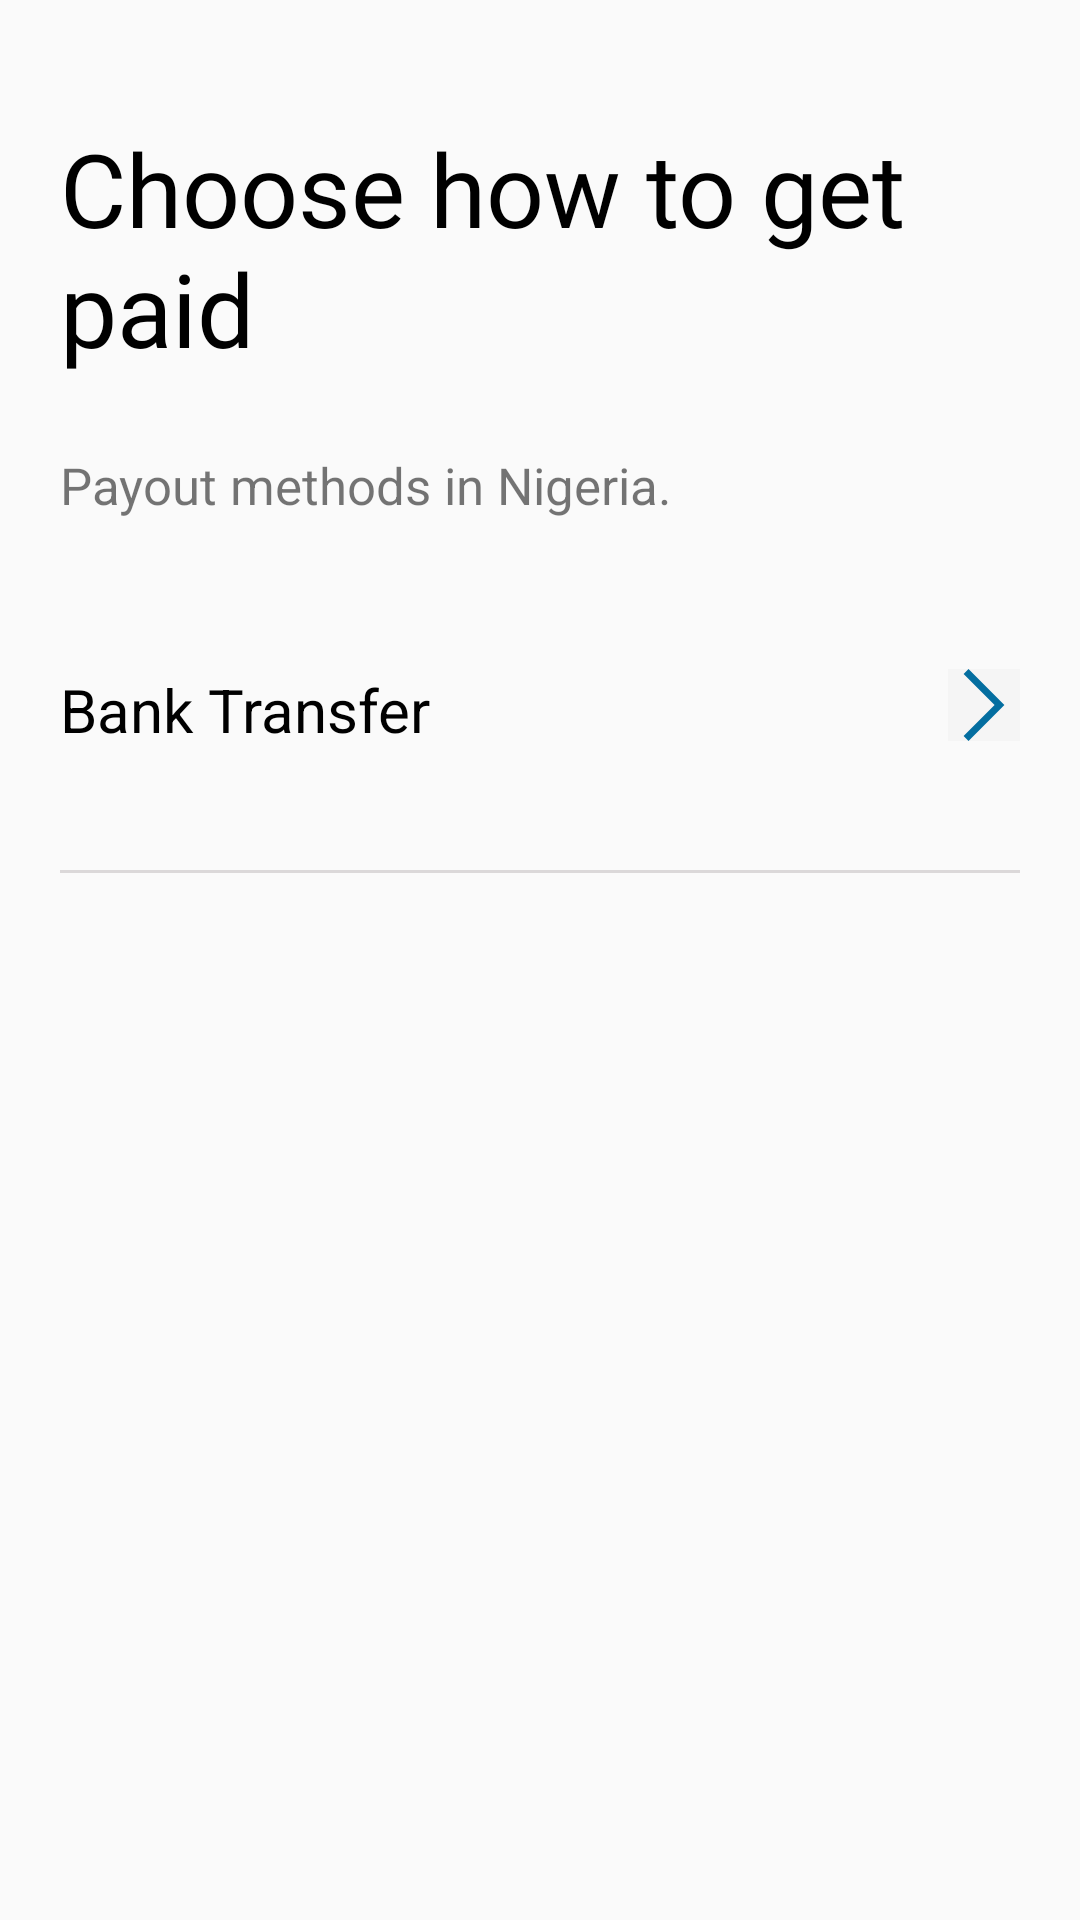

Icons on this 1080×1920 Android screen, each with its box as {"x1": x1, "y1": y1, "x2": x2, "y2": y2}:
nextt: {"x1": 964, "y1": 669, "x2": 1004, "y2": 741}
